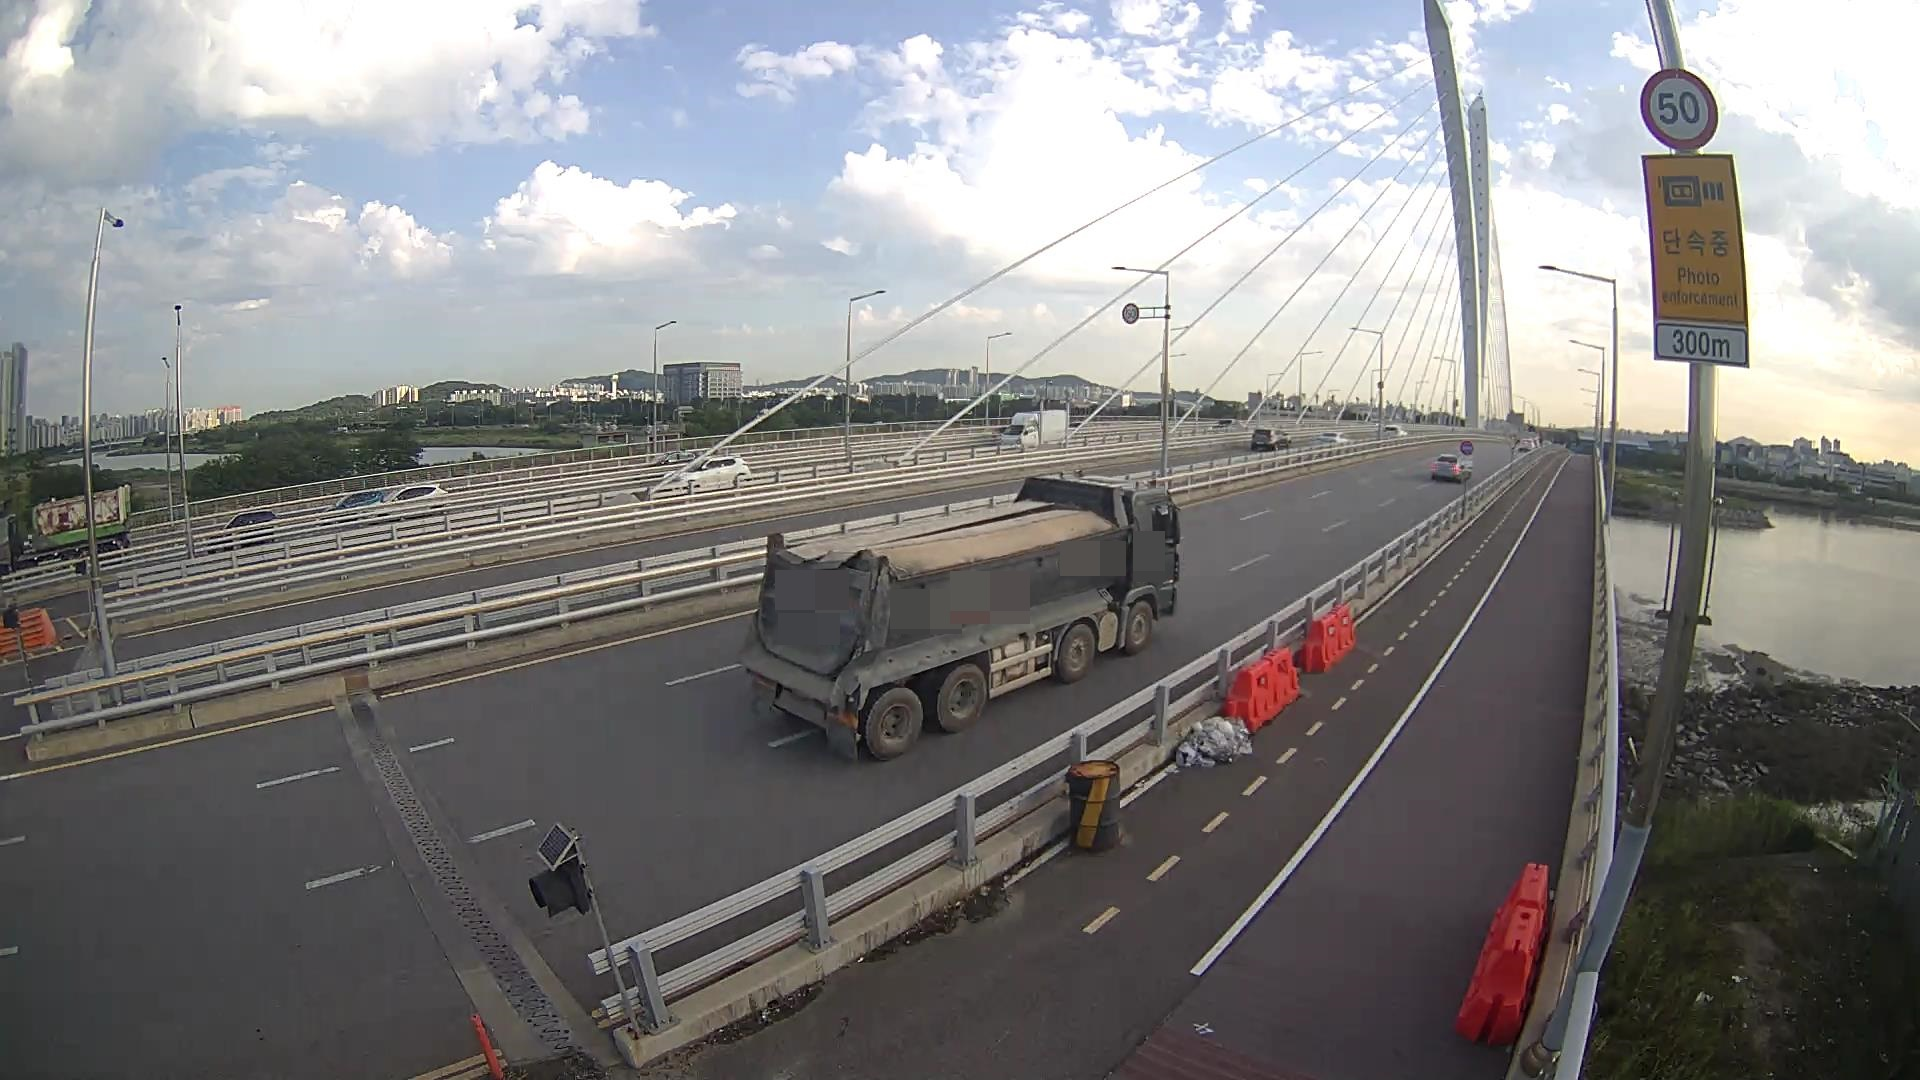정상차량: (736, 476, 1181, 762)
